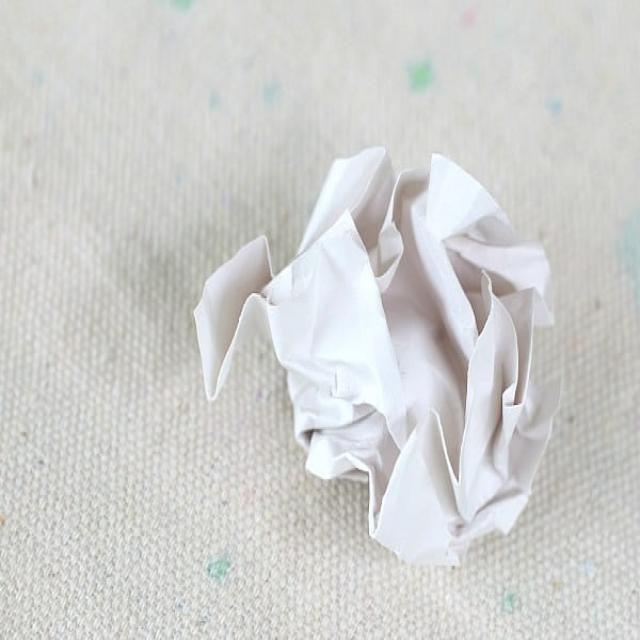Paper: (191, 147, 562, 569)
